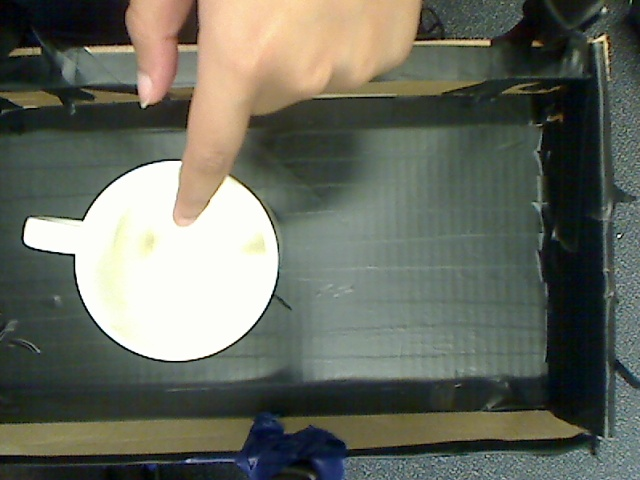mug: (18, 155, 290, 371)
